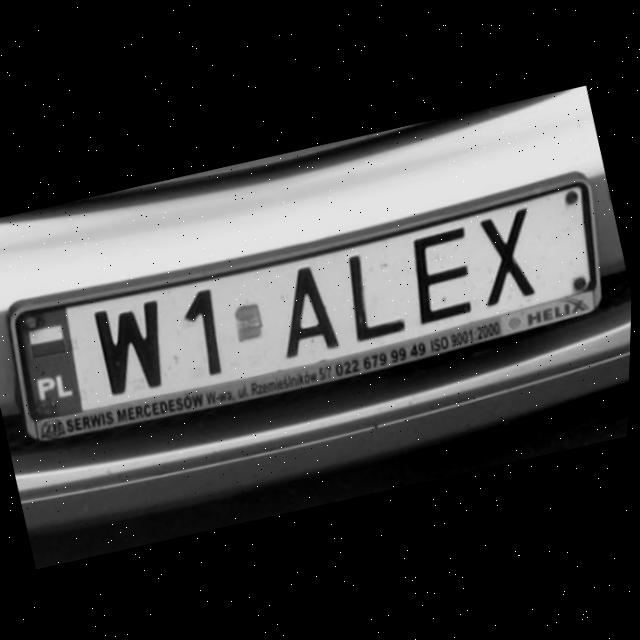license-plates: (14, 183, 600, 440)
